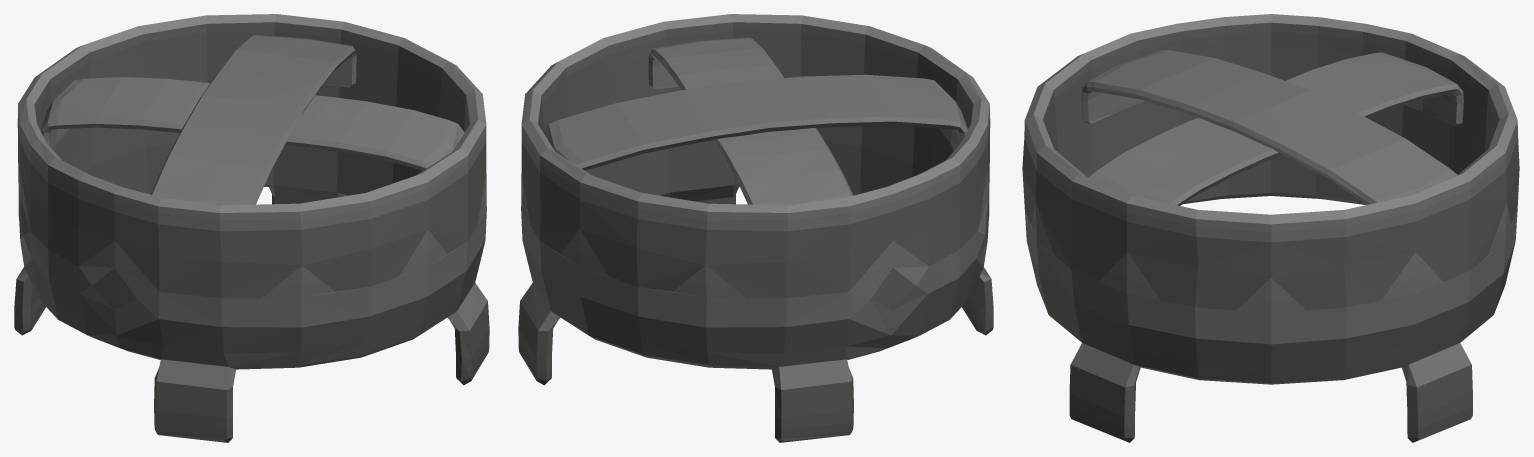
The model's file is CharSkyKid_Prop_ColorKiteCrab.glb.
3 renders of one model, left to right at view 1: azimuth 30°, elevation 25°; view 2: azimuth 150°, elevation 25°; view 3: azimuth 270°, elevation 25°, orthographic. The views are drawn at different scales.
Parts seen in each view (by area): view 1: CharSkyKid_Prop_ColorKiteCrab; view 2: CharSkyKid_Prop_ColorKiteCrab; view 3: CharSkyKid_Prop_ColorKiteCrab.
Part boxes in pixels (left/top/right/bottom): CharSkyKid_Prop_ColorKiteCrab: left=14, top=14, right=489, bottom=442; CharSkyKid_Prop_ColorKiteCrab: left=518, top=14, right=993, bottom=442; CharSkyKid_Prop_ColorKiteCrab: left=1022, top=14, right=1519, bottom=442.
Bounding box in the file's own units: 4.27 × 2.44 × 4.31.
1 material, 1 textured.
